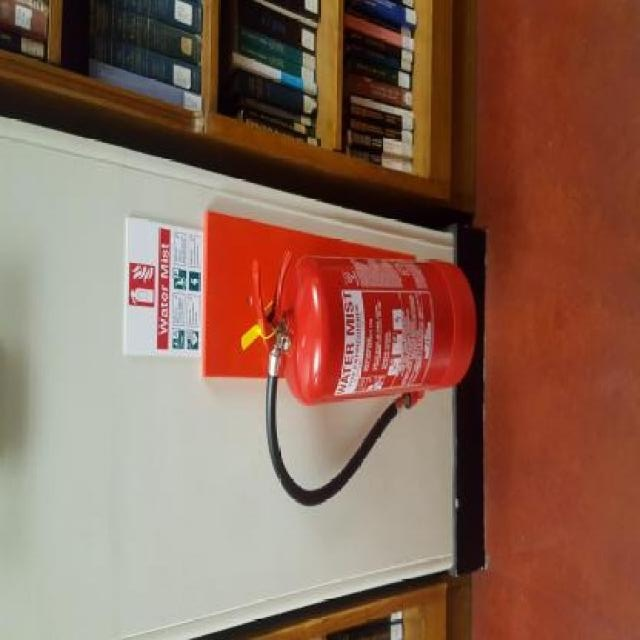fire extinguisher: (251, 248, 477, 506)
